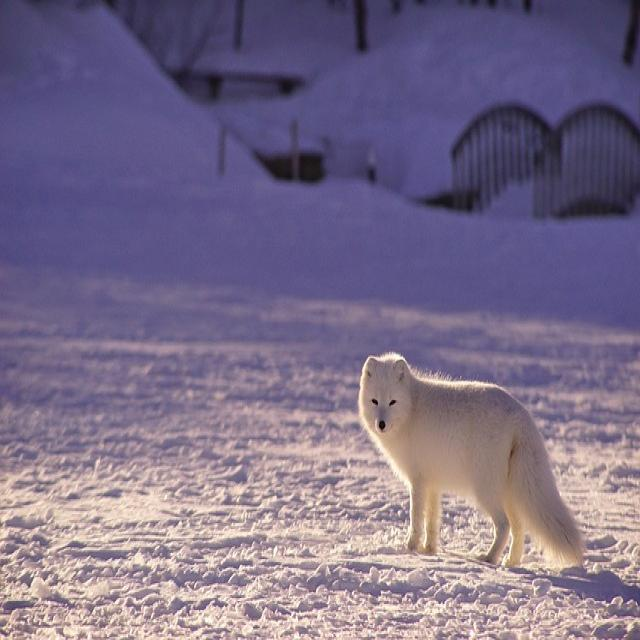Carnivorous: (356, 352, 586, 577)
